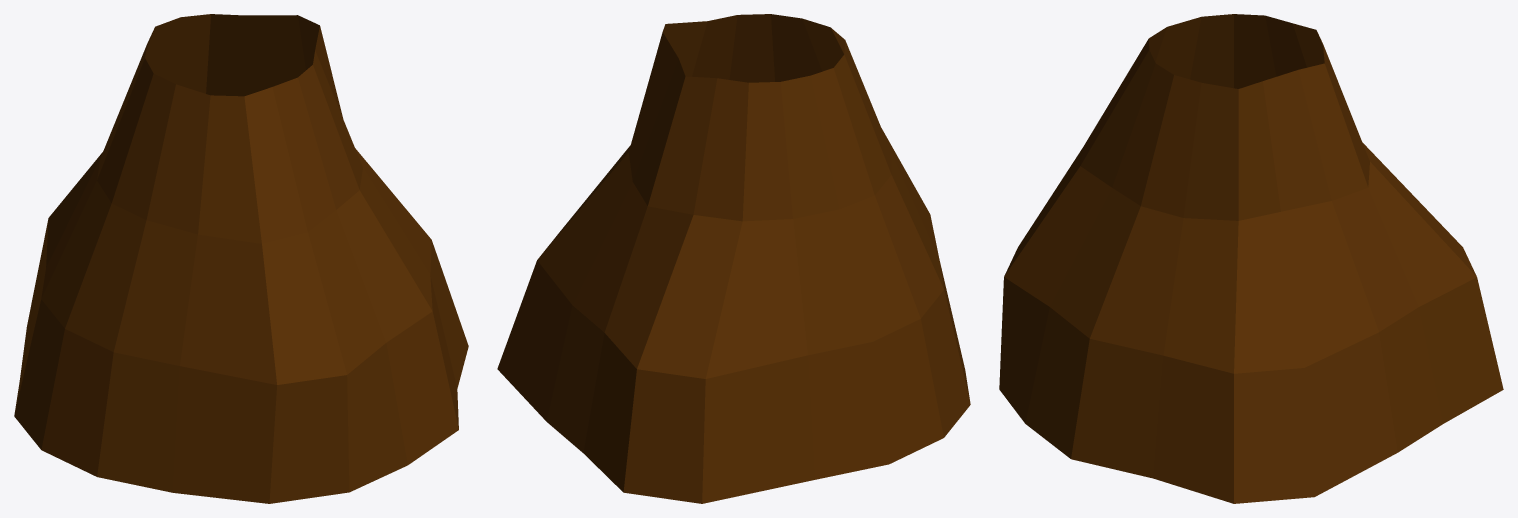
The model's file is volcanoT6v3.fbx.
3 renders of one model, left to right at view 1: azimuth 30°, elevation 25°; view 2: azimuth 150°, elevation 25°; view 3: azimuth 270°, elevation 25°, orthographic. The views are drawn at different scales.
Visible parts, largest first — view 1: volcano; view 2: volcano; view 3: volcano.
Part boxes in pixels (x1=…): volcano: x1=14, y1=14, x2=468, y2=503; volcano: x1=497, y1=14, x2=970, y2=503; volcano: x1=999, y1=14, x2=1503, y2=503.
Bounding box in the file's own units: 228 × 183 × 239.
